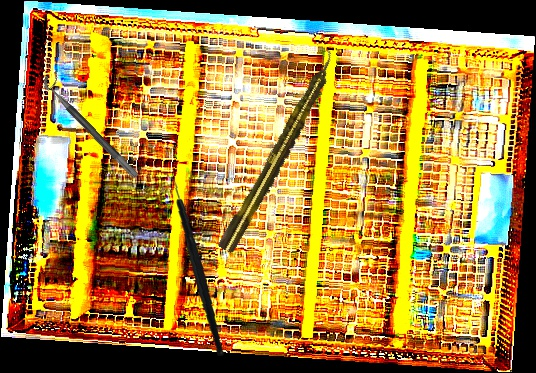Chopper: (144, 169, 240, 357)
Fixation Ring: (38, 68, 148, 180)
Handpiece: (215, 48, 344, 255)
